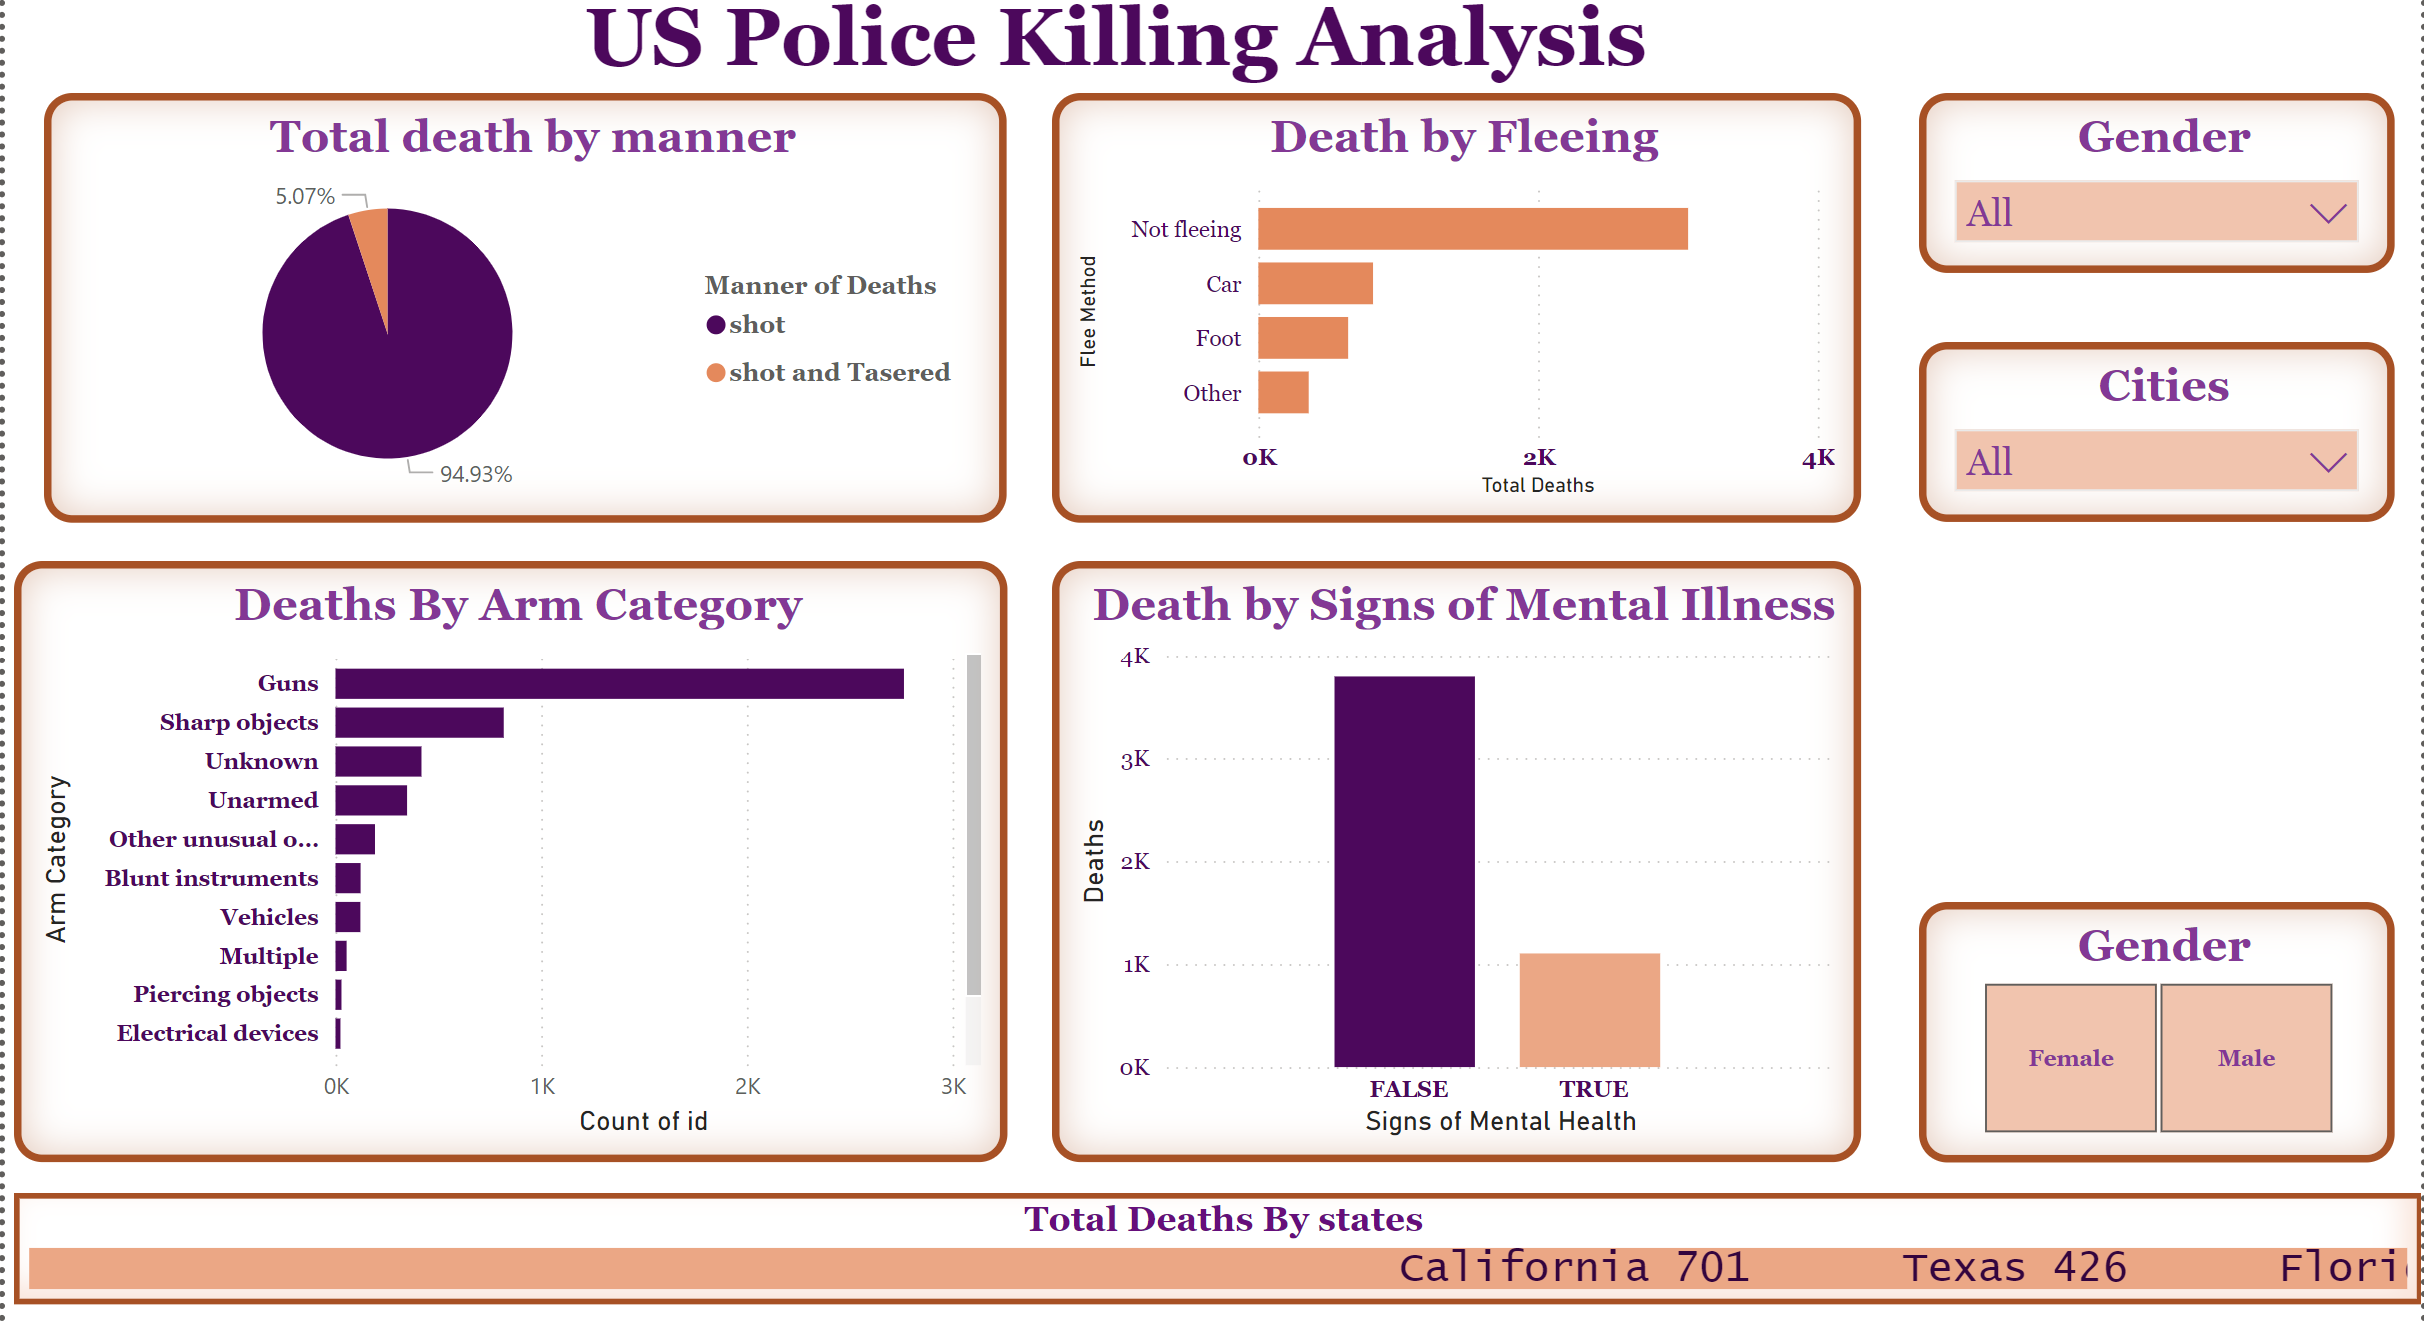

What the dashboard file says about the page in this screenshot:
{"tool":"powerbi","page":{"name":"Details","canvas":[1280,720],"ordinal":1},"visuals":[{"type":"textbox","box":[302.6,0,583.3,59.7],"z":0},{"type":"slicer","title":"Gender","fields":{"Values":["Table1.gender"]},"box":[1013.8,487.6,251.9,138.2],"z":1000},{"type":"slicer","title":"Gender","fields":{"Values":["States.State Name"]},"box":[1013.8,58.9,251.9,95.5],"z":2000},{"type":"clusteredBarChart","title":"Deaths By Arm Category","fields":{"Y":["CountNonNull(Table1.id)"],"Category":["Table1.arms_category"]},"box":[4.1,306.8,526.2,319],"z":3000},{"type":"clusteredColumnChart","title":"Death by Signs of Mental Illness","fields":{"Y":["CountNonNull(Table1.id)"],"Category":["Table1.signs_of_mental_illness"]},"box":[554.7,306.8,428.7,319],"z":4000},{"type":"ScrollingTextVisual1448795304508","title":"Total Deaths By states","fields":{"Measure Absolute":["CountNonNull(Table1.id)"],"Category":["States.State Name"]},"box":[4.1,642,1275.9,58.9],"z":5000},{"type":"pieChart","title":"Total death by manner ","fields":{"Y":["CountNonNull(Table1.id)"],"Category":["Table1.manner_of_death"]},"box":[20.3,58.9,510,227.6],"z":6000},{"type":"clusteredBarChart","title":"Death by Fleeing","fields":{"Y":["CountNonNull(Table1.id)"],"Category":["Table1.flee"]},"box":[554.7,58.9,428.7,227.6],"z":7000},{"type":"slicer","title":"Cities","fields":{"Values":["Table1.city"]},"box":[1013.8,191,251.9,95.5],"z":8000}]}

Visuals, with their boxes in screenshot pixels (x1, y1, x2, y2):
textbox: locate(576, 0, 1674, 93)
"Gender" slicer: locate(1915, 899, 2389, 1159)
"Gender" slicer: locate(1915, 92, 2389, 272)
"Deaths By Arm Category" clusteredBarChart: locate(14, 559, 1005, 1159)
"Death by Signs of Mental Illness" clusteredColumnChart: locate(1050, 559, 1857, 1159)
"Total Deaths By states" ScrollingTextVisual1448795304508: locate(14, 1190, 2416, 1300)
"Total death by manner " pieChart: locate(45, 92, 1005, 520)
"Death by Fleeing" clusteredBarChart: locate(1050, 92, 1857, 520)
"Cities" slicer: locate(1915, 341, 2389, 520)
